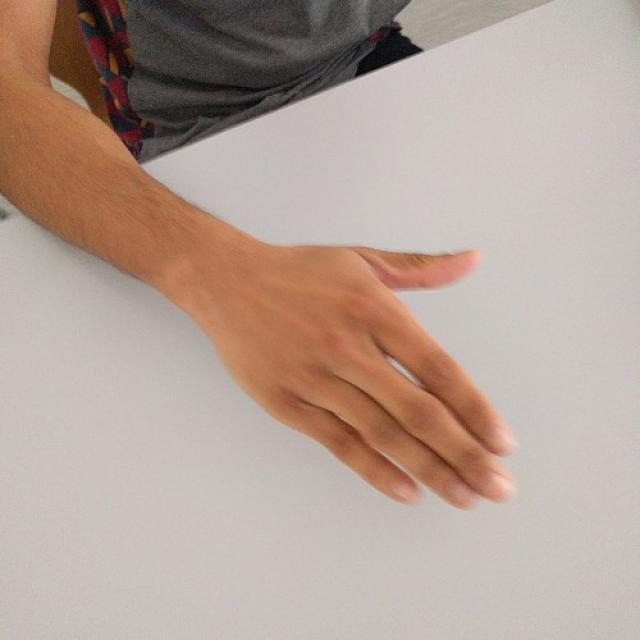paper: (230, 234, 517, 512)
